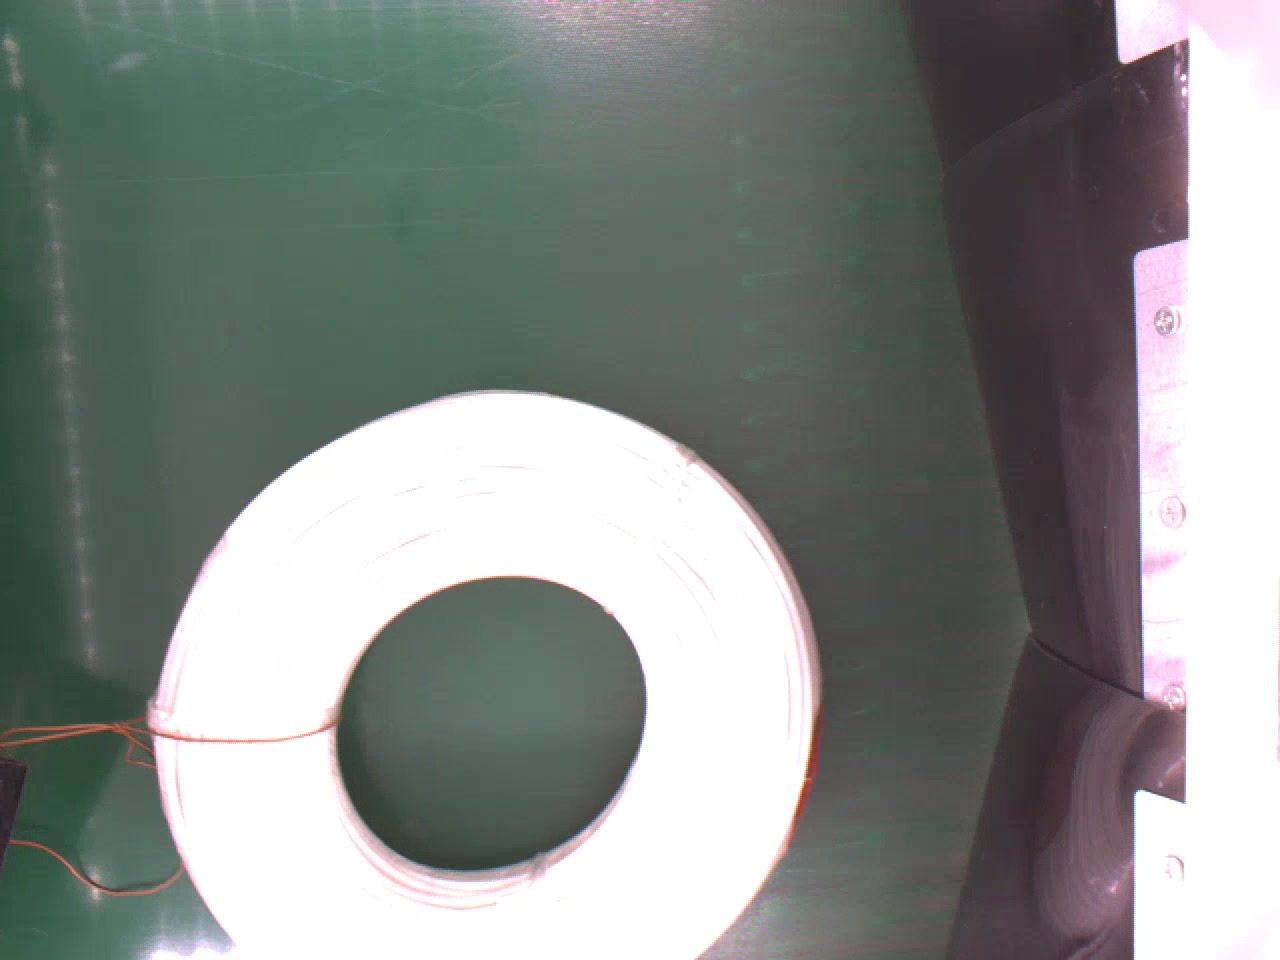white: (154, 387, 827, 953)
